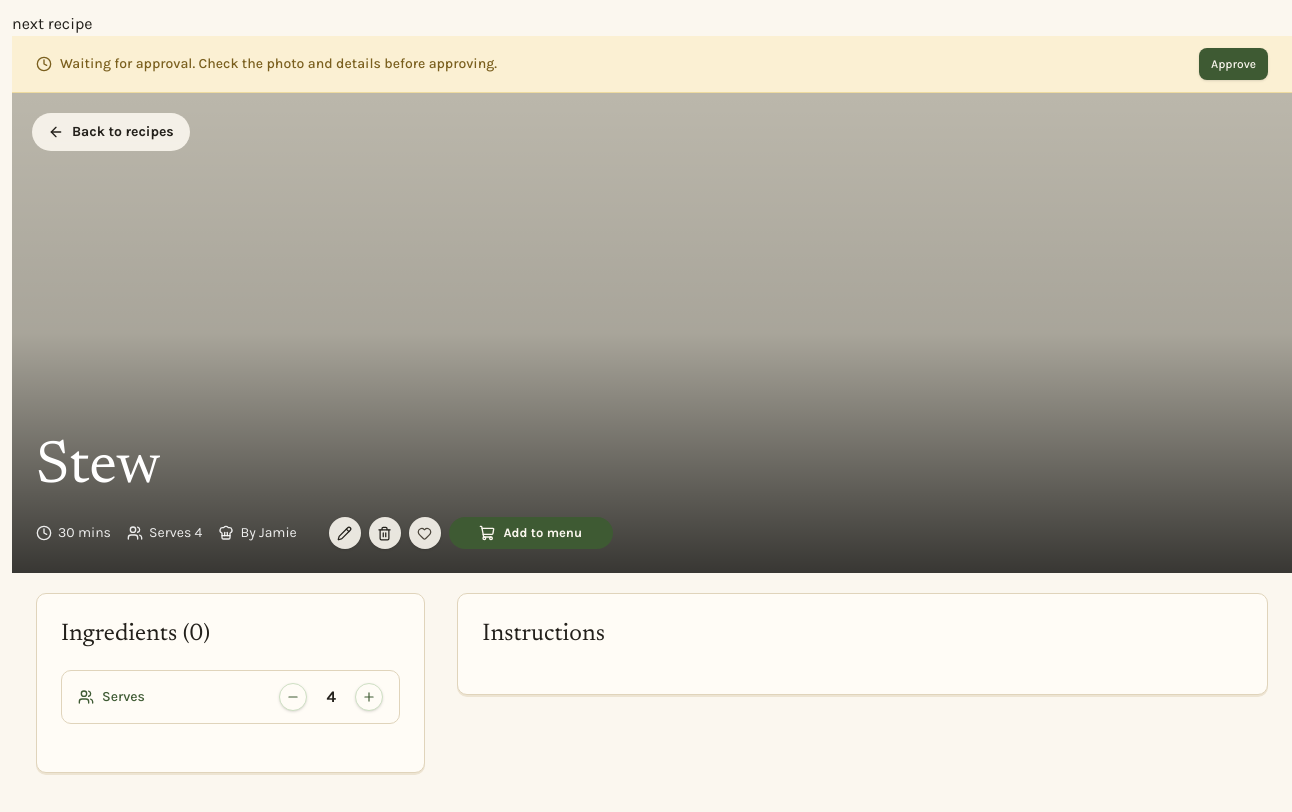
Scenario: RecipeDetailPage › starts the next recipe's approval afresh, even when it's already cached
Click the button "Approve". click: (1234, 64)
box: left=1199, top=48, right=1268, bottom=80
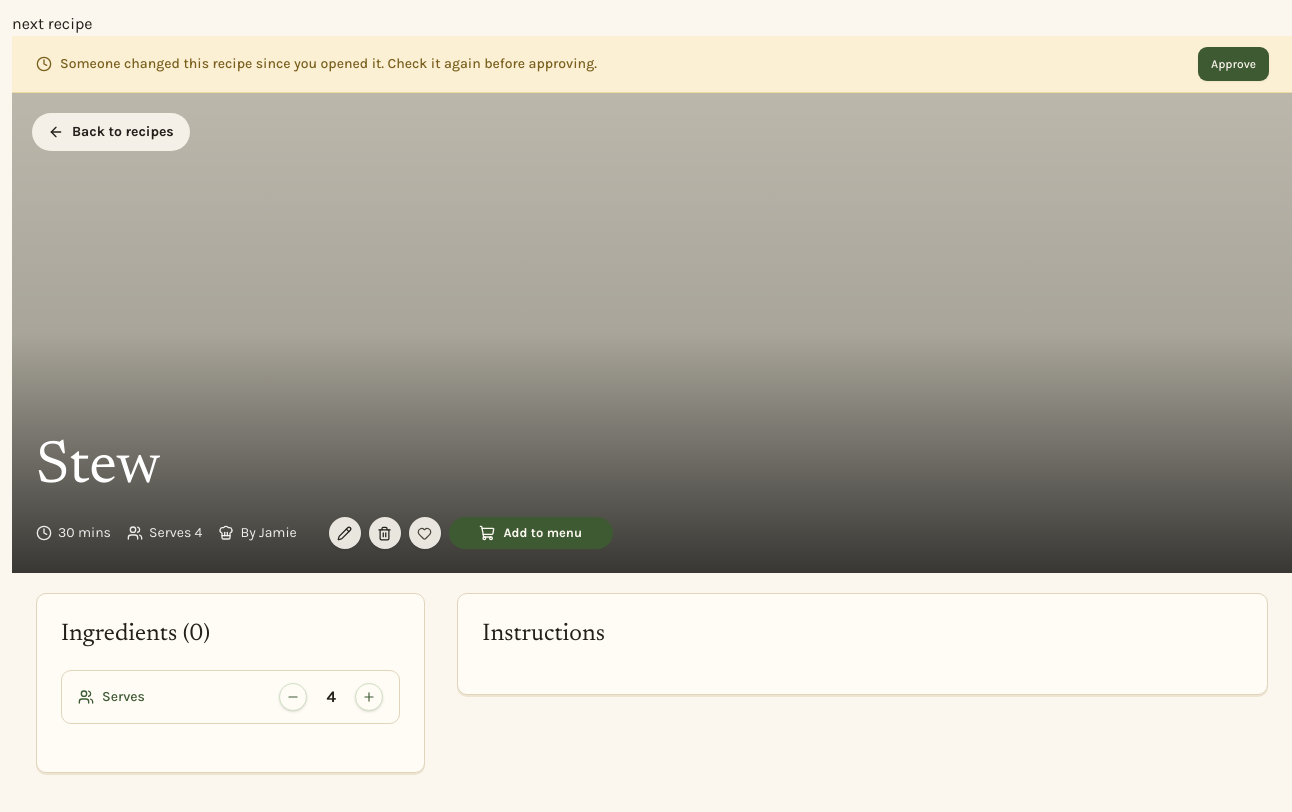
Now the text "Someone changed this recipe since you opened it. Check it again before approving." is shown, box left=60, top=55, right=597, bottom=72
Click the link "next recipe". click: (52, 24)
box: left=12, top=14, right=92, bottom=33
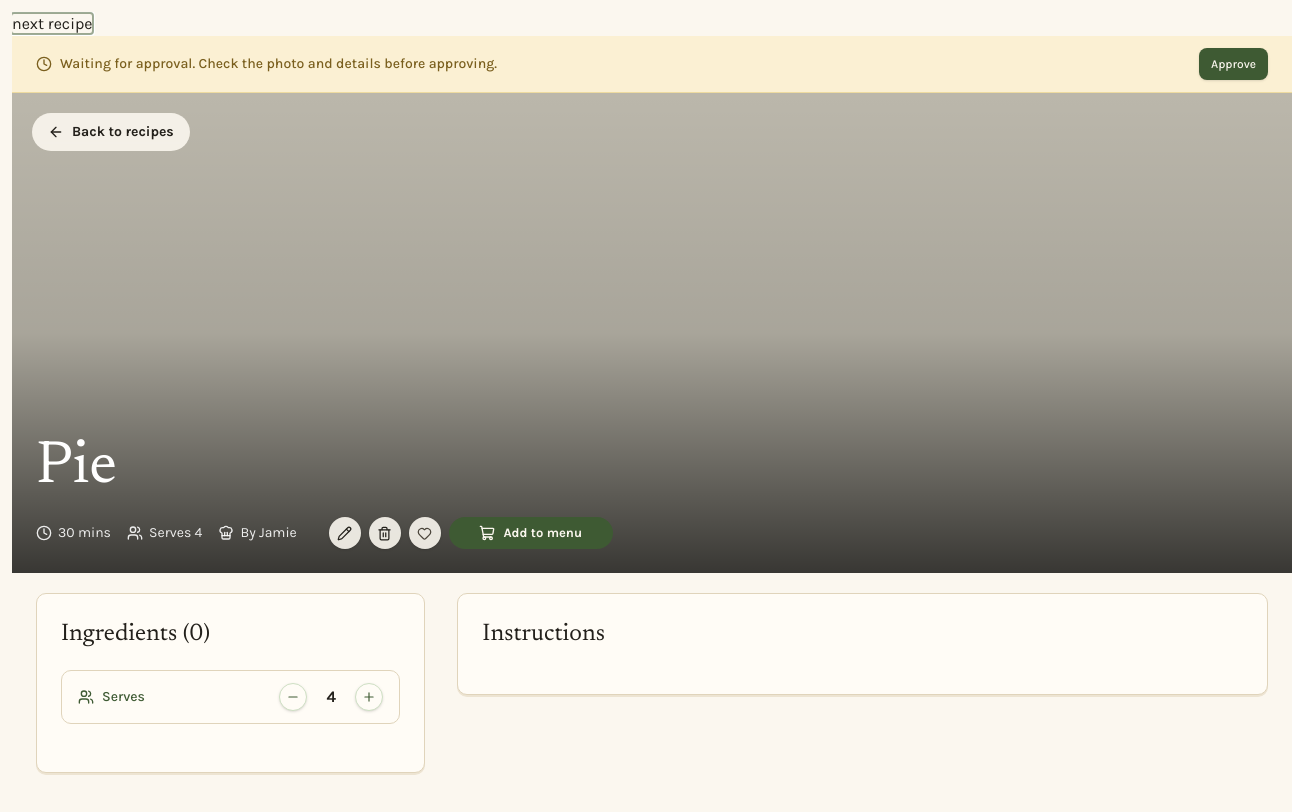
Now the heading "Pie" is shown, box left=36, top=438, right=117, bottom=498
Now the text "Someone changed this recipe since you opened it. Check it again before approving." is gone
